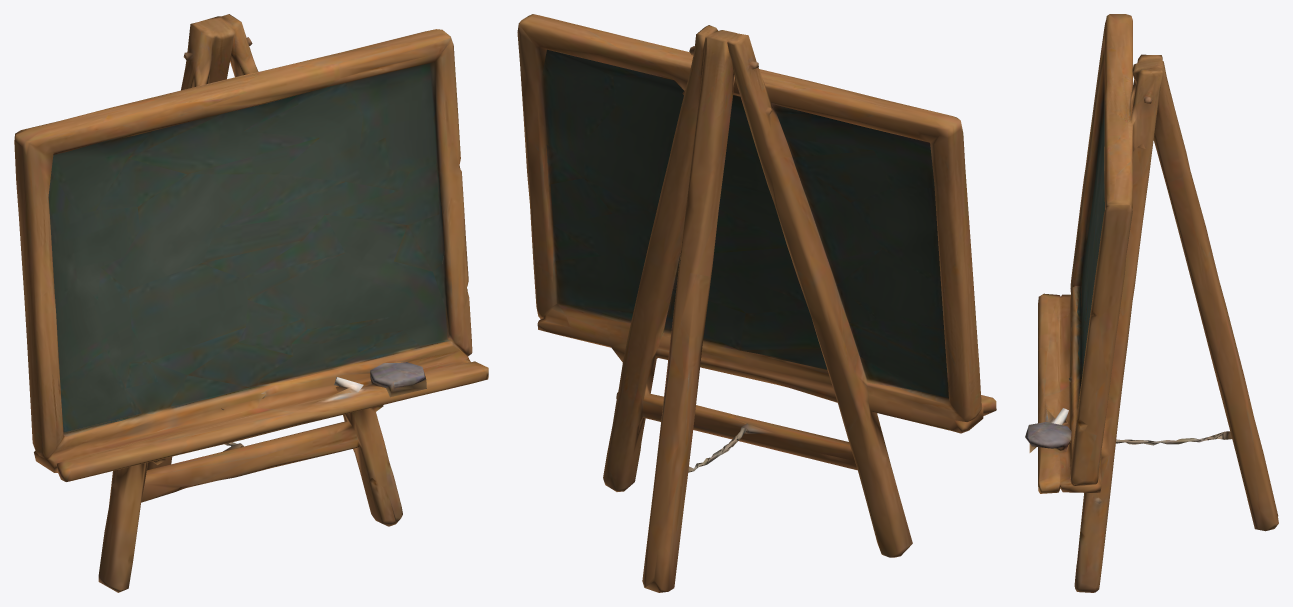
The model's file is chalkboard.glb.
3 renders of one model, left to right at view 1: azimuth 30°, elevation 25°; view 2: azimuth 150°, elevation 25°; view 3: azimuth 270°, elevation 25°, orthographic. The views are drawn at different scales.
Parts seen in each view (by area): view 1: tripo_node_6f8151cf-1cff-4ad0-bcad-1cc5eb681b52; view 2: tripo_node_6f8151cf-1cff-4ad0-bcad-1cc5eb681b52; view 3: tripo_node_6f8151cf-1cff-4ad0-bcad-1cc5eb681b52.
Boxes of the visible parts, x1,y1,x2,y2 form: tripo_node_6f8151cf-1cff-4ad0-bcad-1cc5eb681b52: (14,14,488,592); tripo_node_6f8151cf-1cff-4ad0-bcad-1cc5eb681b52: (517,14,996,592); tripo_node_6f8151cf-1cff-4ad0-bcad-1cc5eb681b52: (1025,14,1278,592).
Bounding box in the file's own units: 0.8669 × 0.9791 × 0.482.
1 material, 1 textured.
